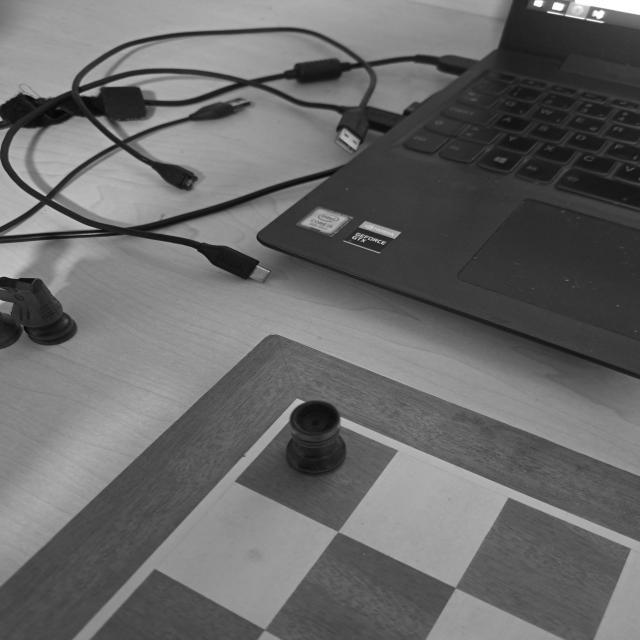chess-table-corners: (240, 378, 362, 440)
